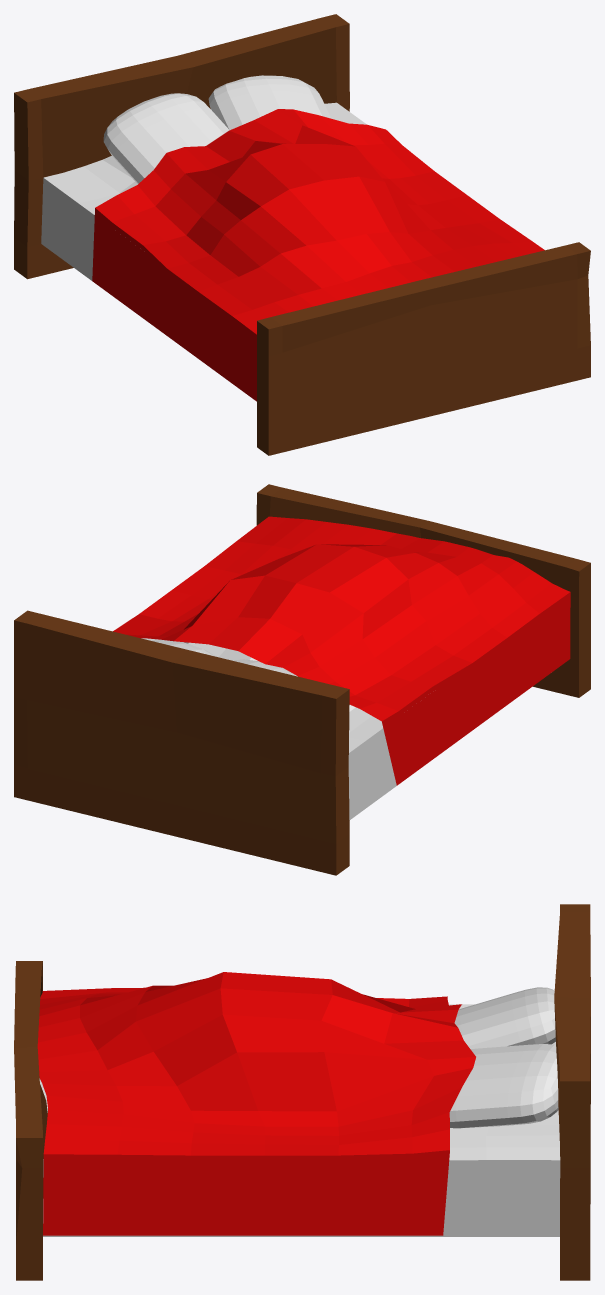
Rendered from bedInUse.glb.
The picture shows the model from 3 angles, top to bottom: view 1: azimuth 30°, elevation 25°; view 2: azimuth 150°, elevation 25°; view 3: azimuth 270°, elevation 25°; orthographic projection. The views are drawn at different scales.
Visible parts, largest first — view 1: Cube.001; view 2: Cube.001; view 3: Cube.001.
Boxes of the visible parts, x1=… form: Cube.001: x1=14, y1=14, x2=590, y2=455; Cube.001: x1=14, y1=484, x2=590, y2=875; Cube.001: x1=14, y1=904, x2=590, y2=1280.
Size of the model in its own units: 5.62 by 2.94 by 7.72.
